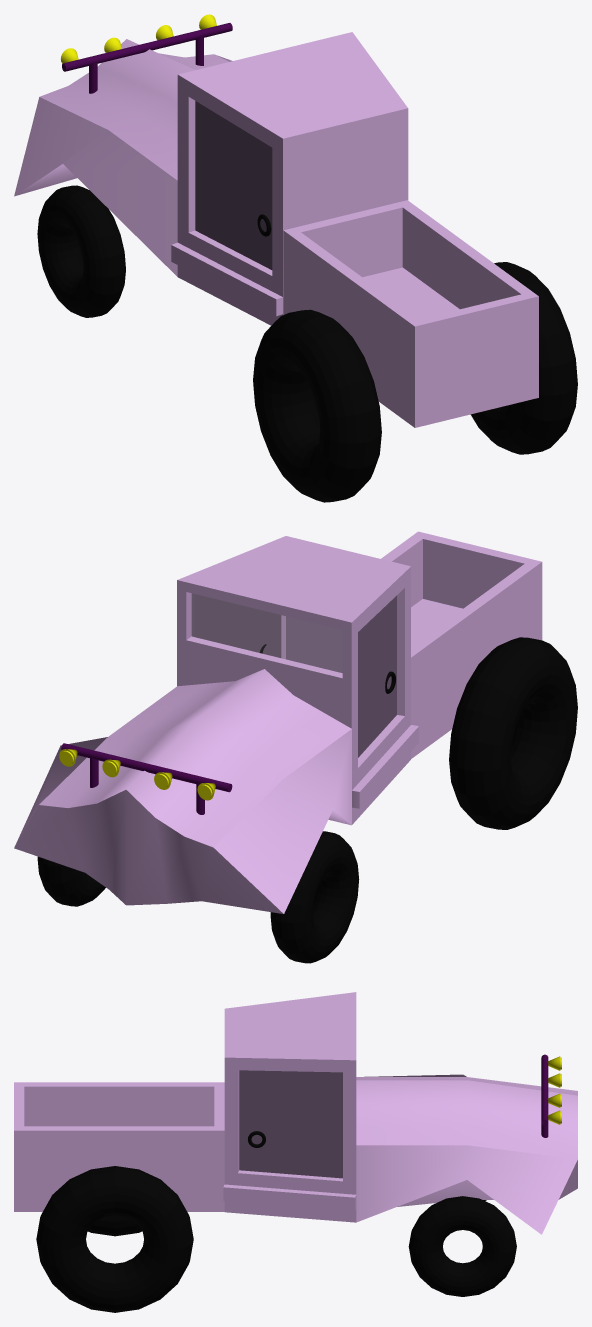
File: AurelioModel.fbx
The picture shows the model from 3 angles, top to bottom: view 1: azimuth 30°, elevation 25°; view 2: azimuth 150°, elevation 25°; view 3: azimuth 270°, elevation 25°; orthographic projection. The views are drawn at different scales.
Visible parts, largest first — view 1: pTorus7, pTorus6, pTorus3, pTorus5; view 2: pTorus7, pTorus6, pTorus3, pTorus4; view 3: pTorus7, pTorus5, pTorus4, pTorus6.
Part boxes in pixels (x1,y1,x2,y2): pTorus7: (14,14,538,427); pTorus6: (253,309,381,502); pTorus3: (37,185,125,317); pTorus5: (470,262,577,454); pTorus7: (14,531,542,913); pTorus6: (449,637,577,829); pTorus3: (270,831,359,963); pTorus4: (37,856,105,906); pTorus7: (14,992,577,1234); pTorus5: (36,1166,193,1312); pTorus4: (408,1196,516,1296); pTorus6: (88,1215,141,1236).
Size of the model in its own units: 7.31 by 7.97 by 16.52.
